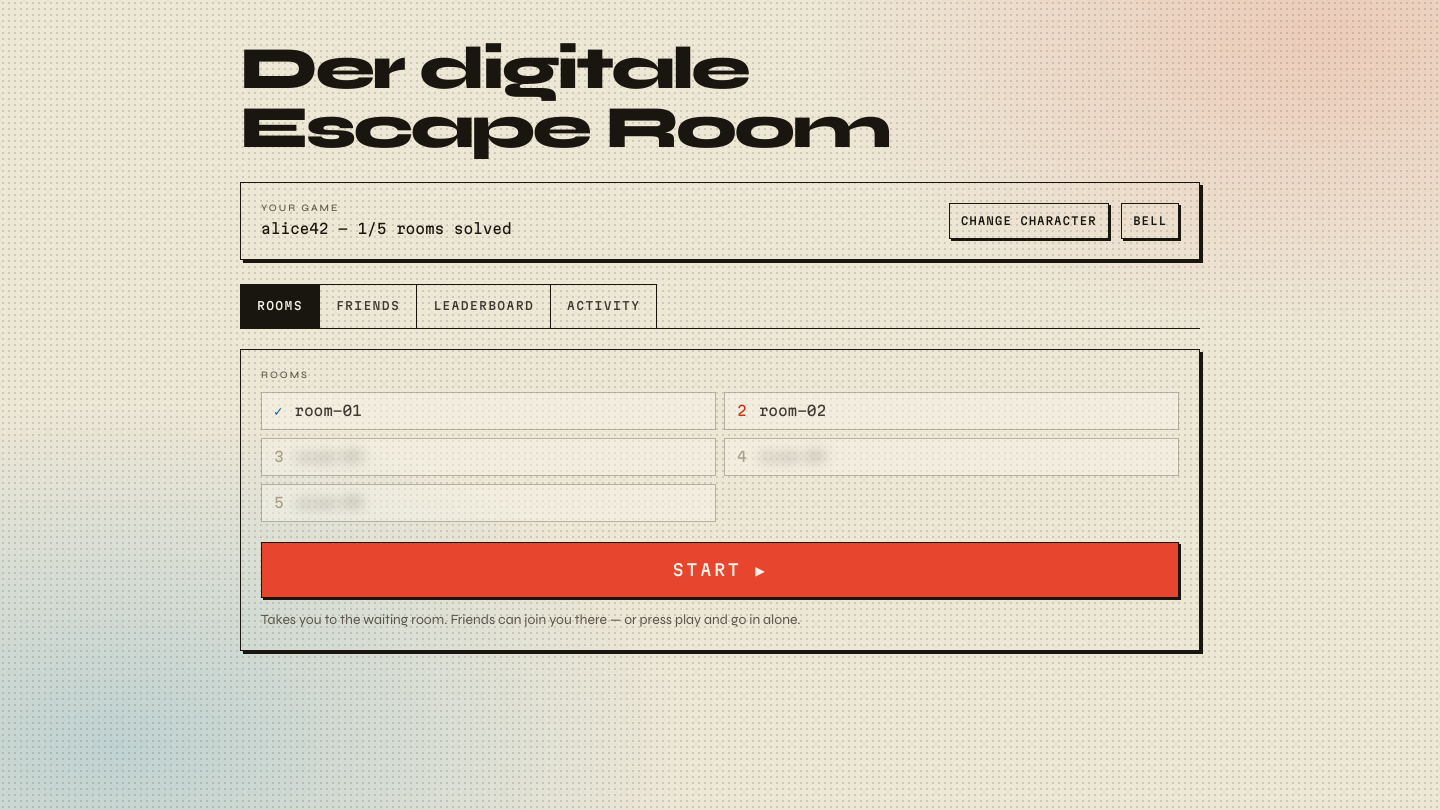
App › signed in with a complete profile › shows the activity log, newest first
expect the text "alice42 — 1/5 rooms solved" is shown: met, box [261, 219, 512, 239]
Click the tab "Activity" at (604, 306), box [550, 284, 658, 328]
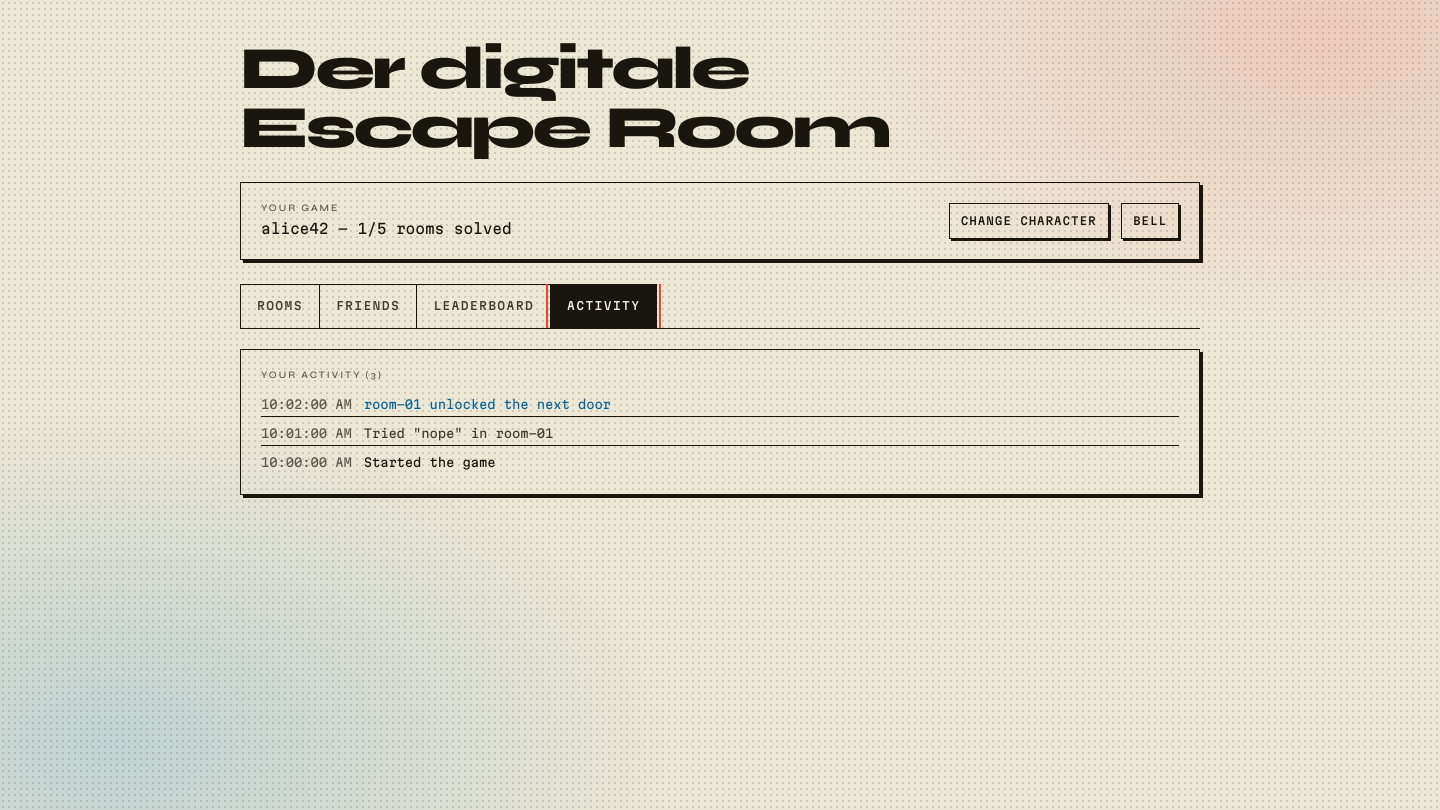
expect the heading "Your activity (3)" is shown: met, box [261, 369, 383, 381]
expect the text "Tried \"nope\" in room-01" is shown: met, box [364, 425, 553, 441]
expect the list item "10:02:00 AM room-01 unlocked the next door" is shown: met, box [261, 392, 1179, 417]
